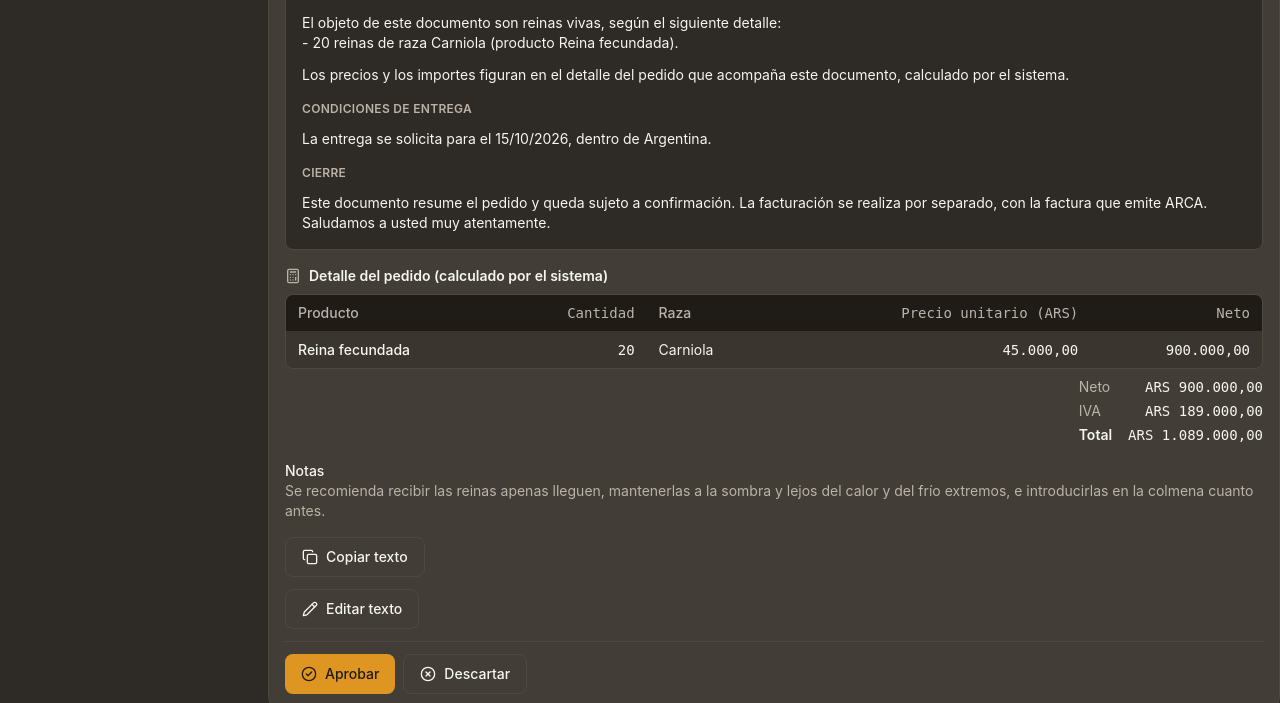
Test case: aprobación del borrador en el detalle del pedido › aprobar › confirma el texto, avisa que el PDF no es fiscal y manda el hash del borrador cargado
The image size is (1280, 703).
(page scrolled)
Step 1. Click the button "Aprobar" → {"x": 340, "y": 674}, box [285,654,395,694]
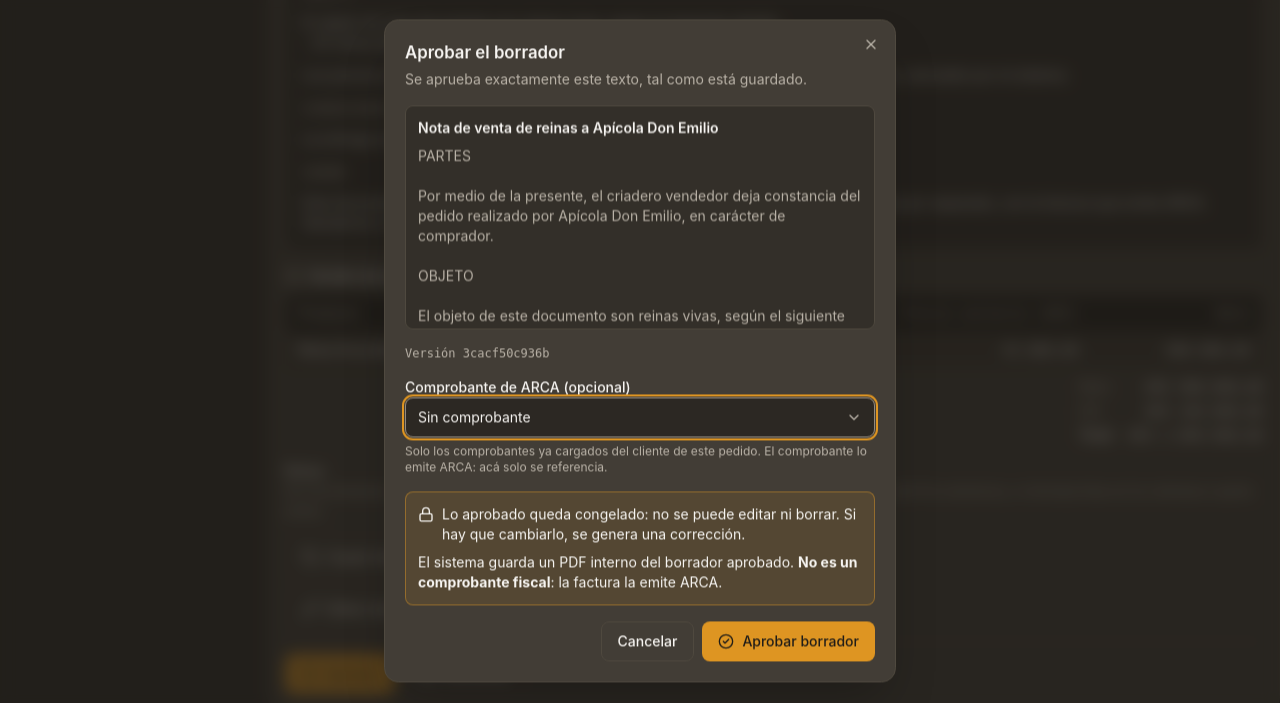
Check: the text "Se aprueba exactamente este texto, tal como está guardado." is shown, box [405,70,875,90]
Check: the text "queda congelado" is shown, box [442,506,856,543]
Check: the text "No es un comprobante fiscal" is shown, box [418,554,858,591]
Step 2. Click the button "Aprobar borrador" → {"x": 789, "y": 642}, box [702,622,875,662]
(page scrolled)
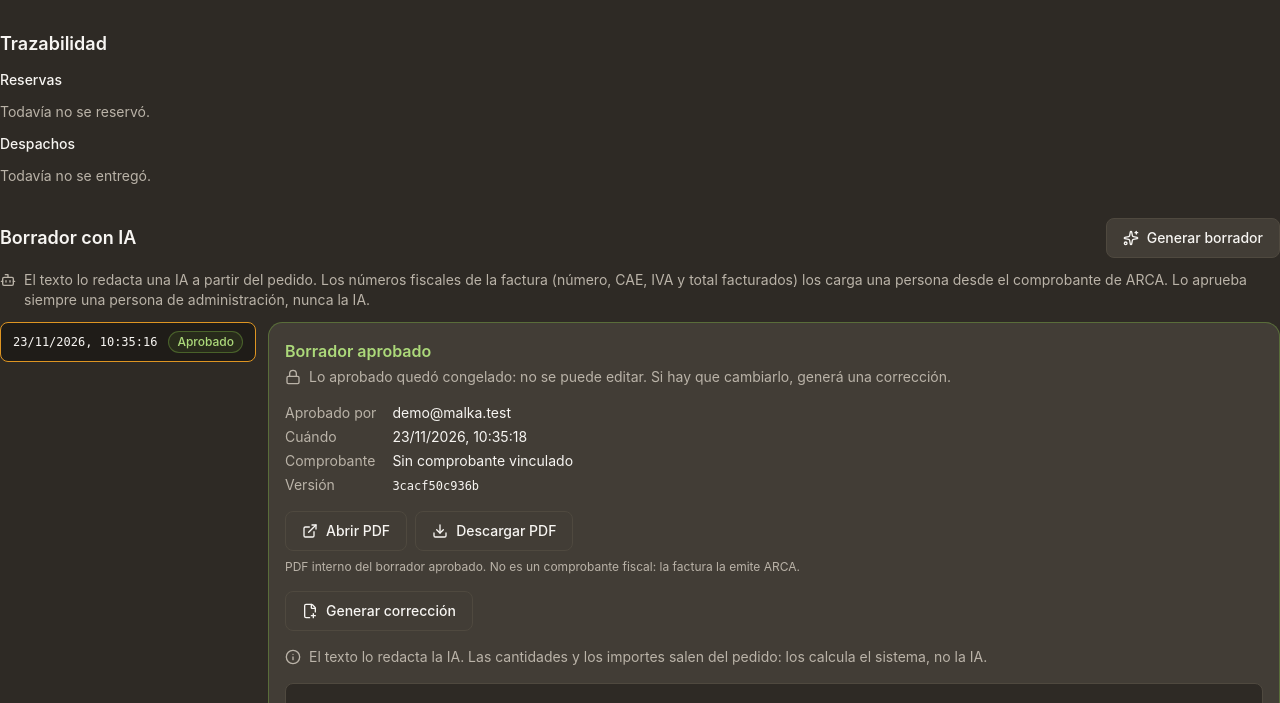
Check: the heading "Borrador aprobado" is shown, box [285,341,431,361]
Check: the dialog is gone
